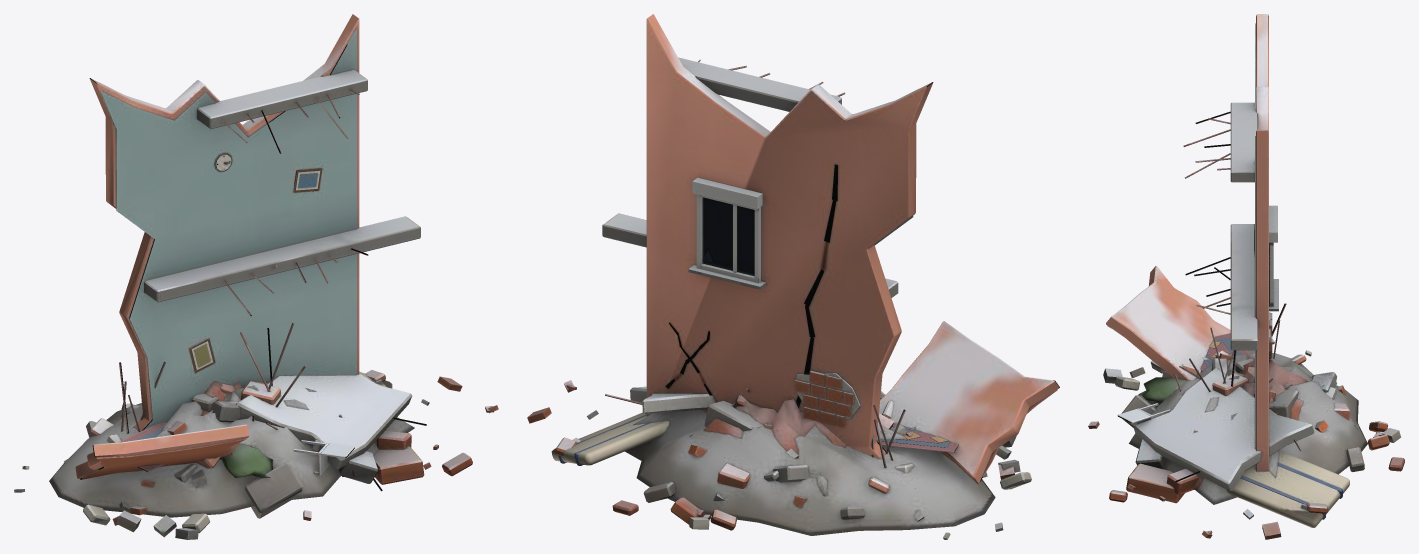
The model's file is bld_wall_ruin.glb.
3 renders of one model, left to right at view 1: azimuth 30°, elevation 25°; view 2: azimuth 150°, elevation 25°; view 3: azimuth 270°, elevation 25°, orthographic. The views are drawn at different scales.
Visible parts, largest first — view 1: bld_wall_ruin; view 2: bld_wall_ruin; view 3: bld_wall_ruin.
Boxes of the visible parts, <box> form: bld_wall_ruin: <box>14,14,498,539</box>; bld_wall_ruin: <box>527,14,1059,539</box>; bld_wall_ruin: <box>1088,14,1404,539</box>.
Bounding box in the file's own units: 8.49 × 7.81 × 5.76.
1 material, 1 textured.
